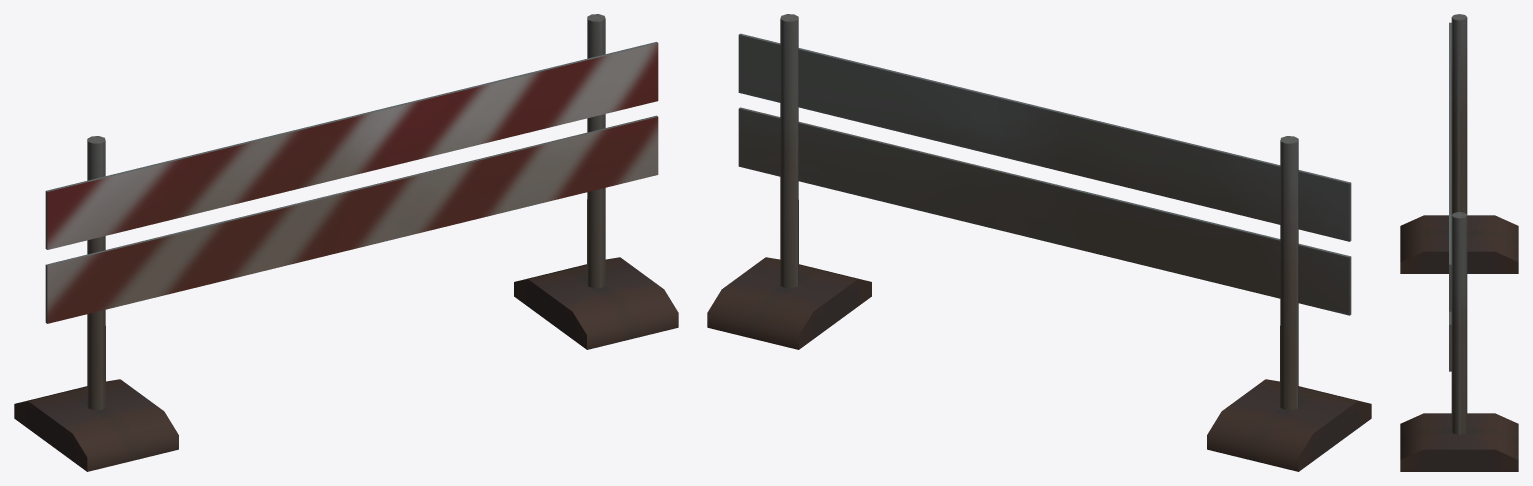
File: drogowa-barierka2.fbx
3 views of the same model, side by side, from view 1: azimuth 30°, elevation 25°; view 2: azimuth 150°, elevation 25°; view 3: azimuth 270°, elevation 25° (orthographic). The views are drawn at different scales.
Parts seen in each view (by area): view 1: Cube; view 2: Cube; view 3: Cube.
Part boxes in pixels (box(x1,y1,x2,y2)): Cube: box(14, 14, 678, 471); Cube: box(707, 14, 1371, 471); Cube: box(1400, 14, 1518, 471).
Bounding box in the file's own units: 220 × 101 × 45.59.
